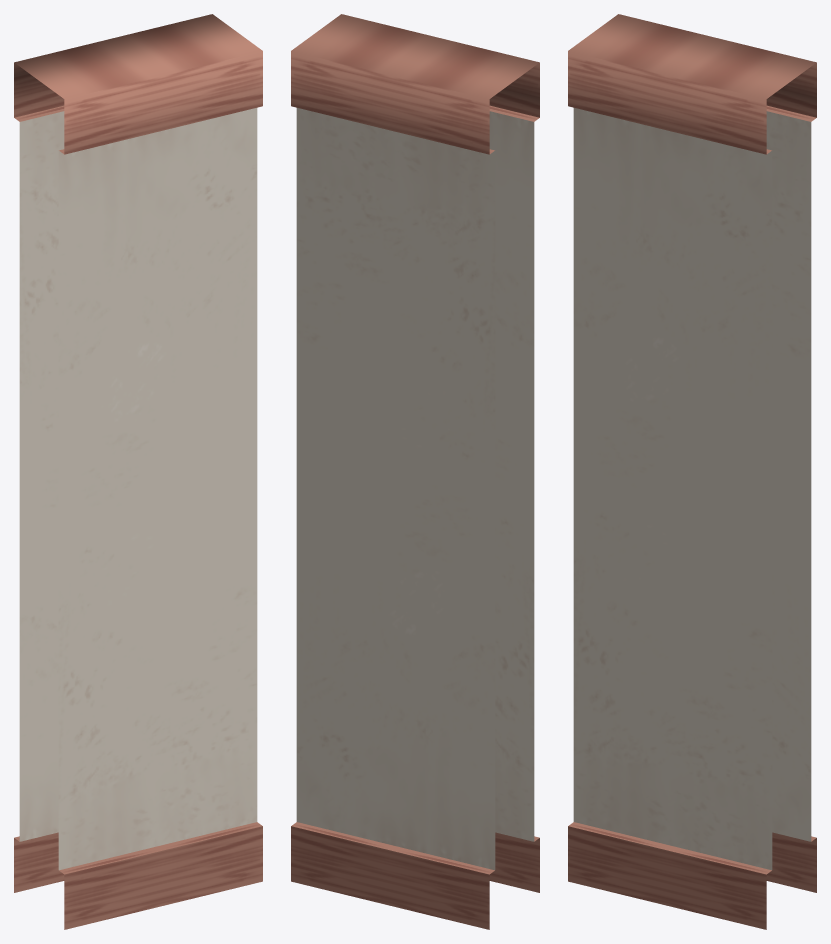
Rendered from paret_base.fbx.
The picture shows the model from 3 angles, left to right: view 1: azimuth 30°, elevation 25°; view 2: azimuth 150°, elevation 25°; view 3: azimuth 330°, elevation 25°; orthographic projection.
Parts seen in each view (by area): view 1: Pared_Base; view 2: Pared_Base; view 3: Pared_Base.
Boxes of the visible parts, x1,y1,x2,y2 form: Pared_Base: [14, 14, 262, 929]; Pared_Base: [291, 14, 539, 929]; Pared_Base: [568, 14, 816, 929].
Bounding box in the file's own units: 100 × 400 × 44.
